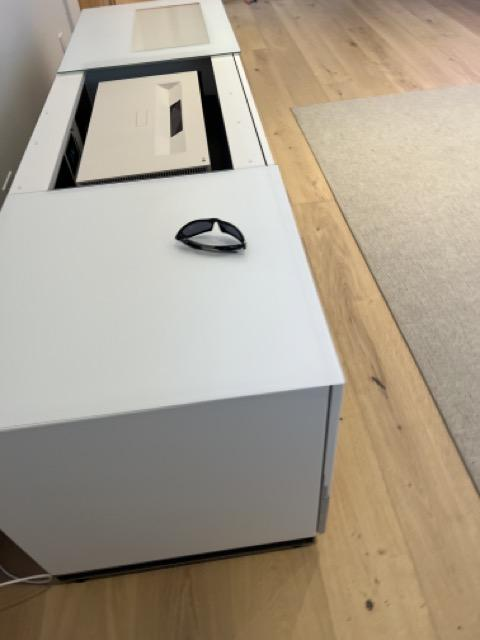Sunglasses: (176, 216, 248, 254)
